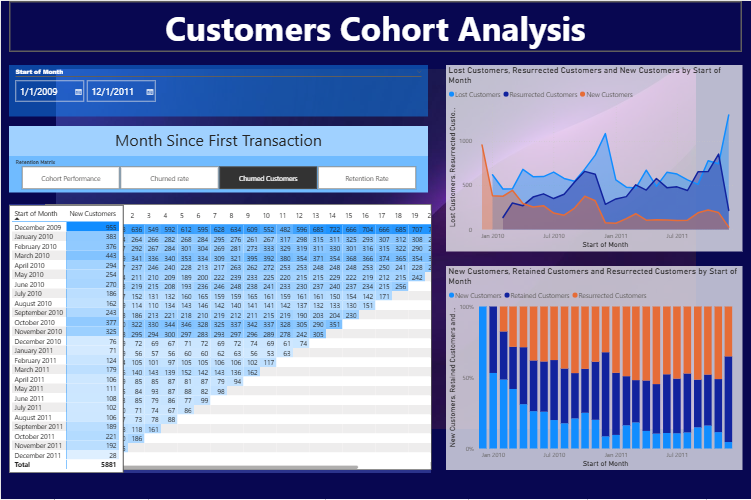

What the dashboard file says about the page in this screenshot:
{"tool":"powerbi","page":{"name":"Retention ","canvas":[1500,1000],"ordinal":0},"visuals":[{"type":"pivotTable","fields":{"Values":["_Measure.Churned Customers"],"Rows":["DimDate.Start of Month"],"Columns":["FactSales.Month Science First transaction"]},"box":[87.2,406,772.8,532],"z":0,"group":"g1"},{"type":"group","id":"g1","title":"Group 1","box":[16,406,844,538],"z":0},{"type":"pivotTable","fields":{"Rows":["DimDate.Start of Month"],"Values":["_Measure.New Customers"]},"box":[16,407,229.3,536],"z":1000,"group":"g1"},{"type":"textbox","box":[15,250,837.5,60],"z":1000},{"type":"slicer","fields":{"Values":["DimDate.Start of Month"]},"box":[15,127.5,837.5,102.5],"z":2000},{"type":"slicer","fields":{"Values":["Retention Matrix.Retention Matrix"]},"box":[15,310,837.5,72.5],"z":3000},{"type":"actionButton","box":[15,0,1467.5,102.5],"z":4000},{"type":"areaChart","fields":{"Category":["DimDate.Start of Month"],"Y":["_Measure.Lost Customers","_Measure.Resurrected Customers","_Measure.New Customers"]},"box":[890,127.5,592.5,372.5],"z":5000},{"type":"hundredPercentStackedColumnChart","fields":{"Category":["DimDate.Start of Month"],"Y":["_Measure.New Customers","_Measure.Retained Customers","_Measure.Resurrected Customers"]},"box":[890,530,593.3,408.3],"z":6000}]}

Visuals, with their boxes in screenshot pixels (x1, y1, x2, y2), scaled from the page's 1500x1000 canvas onto the 751x500 screenshot:
pivotTable - _Measure.Churned Customers x DimDate.Start of Month: [44,203,431,469]
"Group 1" group: [8,203,431,472]
pivotTable - DimDate.Start of Month x _Measure.New Customers: [8,204,123,472]
textbox: [8,125,427,155]
slicer - DimDate.Start of Month: [8,64,427,115]
slicer - Retention Matrix.Retention Matrix: [8,155,427,191]
actionButton: [8,0,742,51]
areaChart - DimDate.Start of Month x _Measure.Lost Customers: [446,64,742,250]
hundredPercentStackedColumnChart - DimDate.Start of Month x _Measure.New Customers: [446,265,743,469]
